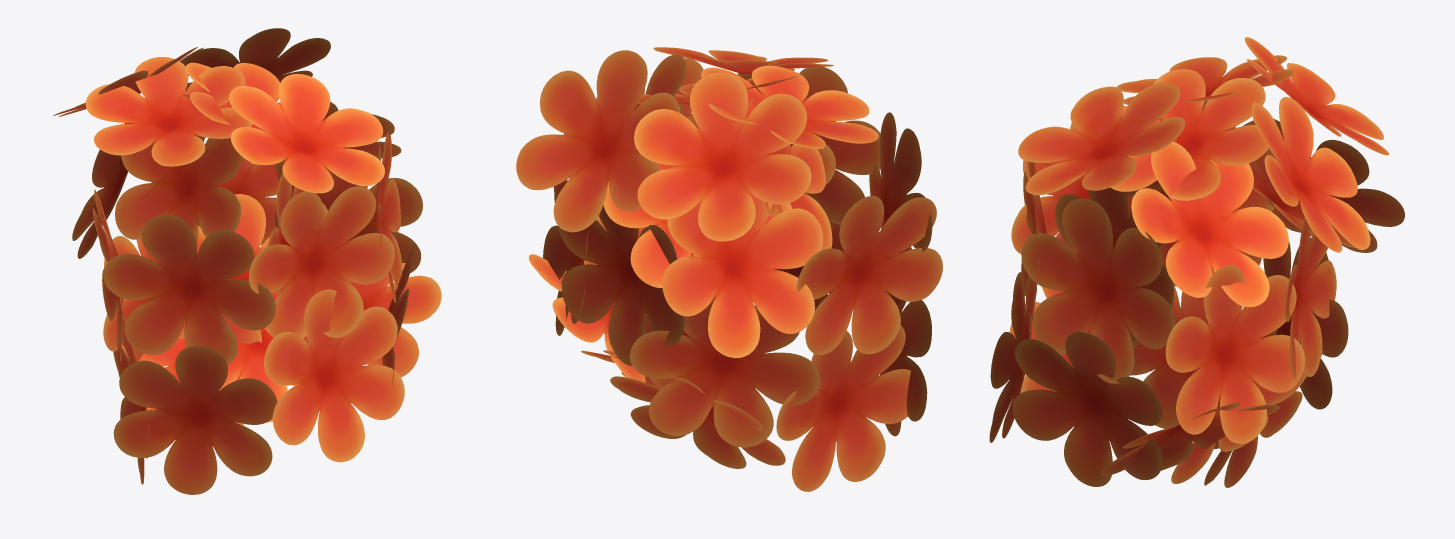
File: PVB export flower top 01.fbx
The picture shows the model from 3 angles, left to right: view 1: azimuth 30°, elevation 25°; view 2: azimuth 150°, elevation 25°; view 3: azimuth 270°, elevation 25°; orthographic projection. The views are drawn at different scales.
Parts seen in each view (by area): view 1: pPlane108, pPlane114, pPlane109, pPlane113, pPlane111, pPlane119, pPlane120, pPlane122, pPlane124, pPlane110, pPlane116, pPlane112 (+12 smaller); view 2: pPlane117, pPlane122, pPlane116, pPlane115, pPlane106, pPlane107, pPlane121, pPlane119, pPlane113, pPlane104, pPlane114, pPlane108 (+8 smaller); view 3: pPlane112, pPlane110, pPlane123, pPlane101, pPlane111, pPlane174, pPlane122, pPlane121, pPlane117, pPlane109, pPlane106, pPlane107 (+11 smaller).
Boxes of the visible parts, x1,y1,x2,y2 form: pPlane108: (113, 346, 277, 494); pPlane114: (103, 215, 275, 364); pPlane109: (264, 289, 404, 462); pPlane113: (248, 186, 394, 338); pPlane111: (229, 74, 384, 193); pPlane119: (85, 57, 252, 166); pPlane120: (115, 94, 242, 246); pPlane122: (181, 28, 330, 91); pPlane124: (303, 263, 441, 377); pPlane110: (274, 158, 422, 272); pPlane116: (72, 123, 135, 258); pPlane112: (374, 132, 401, 302); pPlane117: (634, 72, 811, 241); pPlane122: (516, 50, 680, 232); pPlane116: (662, 190, 823, 357); pPlane115: (797, 196, 942, 355); pPlane106: (630, 295, 819, 447); pPlane107: (776, 325, 910, 491); pPlane121: (558, 205, 684, 365); pPlane119: (701, 65, 878, 148); pPlane113: (737, 67, 880, 224); pPlane104: (610, 373, 785, 468); pPlane114: (869, 112, 932, 253); pPlane108: (873, 291, 931, 436); pPlane112: (1021, 198, 1174, 383); pPlane110: (1165, 265, 1304, 443); pPlane123: (1012, 332, 1162, 486); pPlane101: (1131, 141, 1288, 306); pPlane111: (1018, 82, 1185, 195); pPlane174: (1110, 69, 1268, 200); pPlane122: (1251, 97, 1370, 252); pPlane121: (1284, 217, 1336, 379); pPlane117: (1244, 37, 1389, 155); pPlane109: (989, 272, 1036, 442); pPlane106: (1263, 238, 1348, 409); pPlane107: (1130, 264, 1214, 428).
Size of the model in its own units: 1.34 by 1.35 by 1.25.
Materials: 1 (1 with a texture image).
